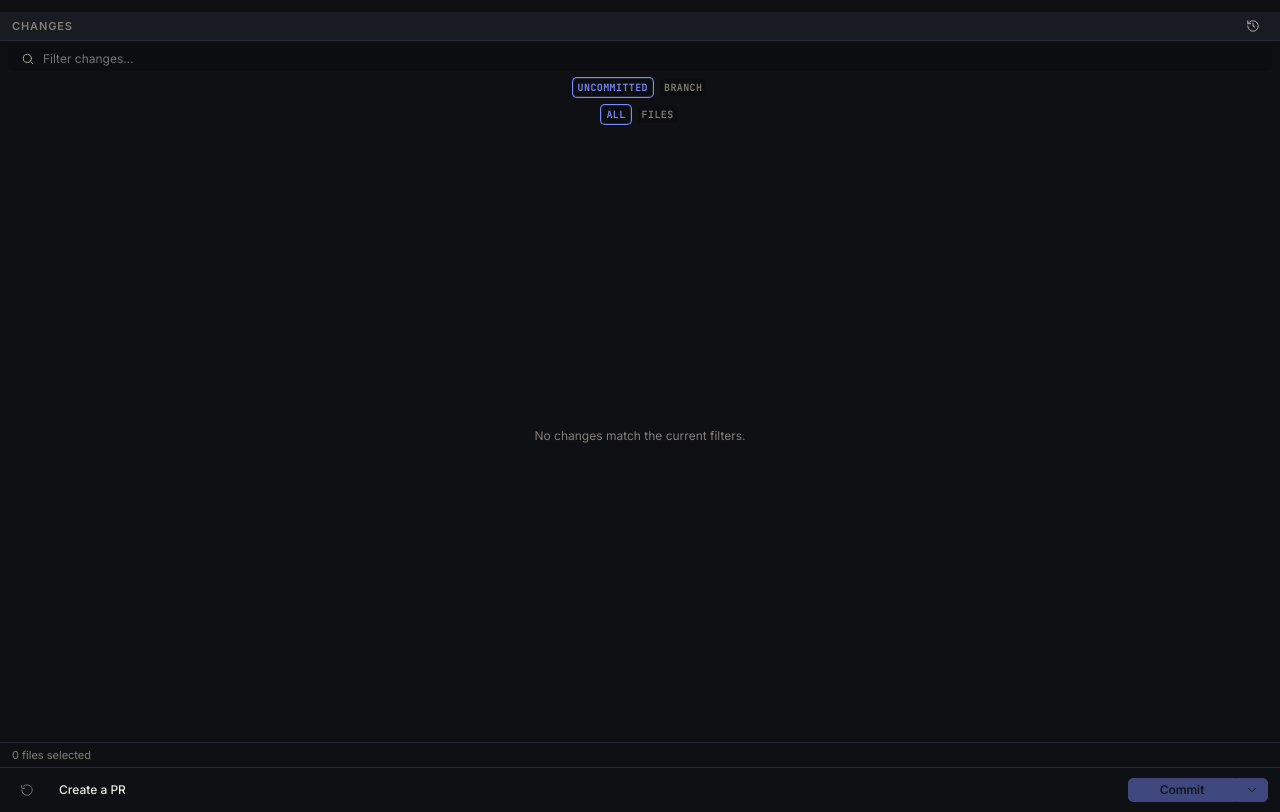
Test case: tree rendering › splits the tree into Revisioned and Unrevisioned, Revisioned first (CHG-FR-09)
Click the radio button labelled "Files".
click(658, 114)  # box 636,104 -> 680,125
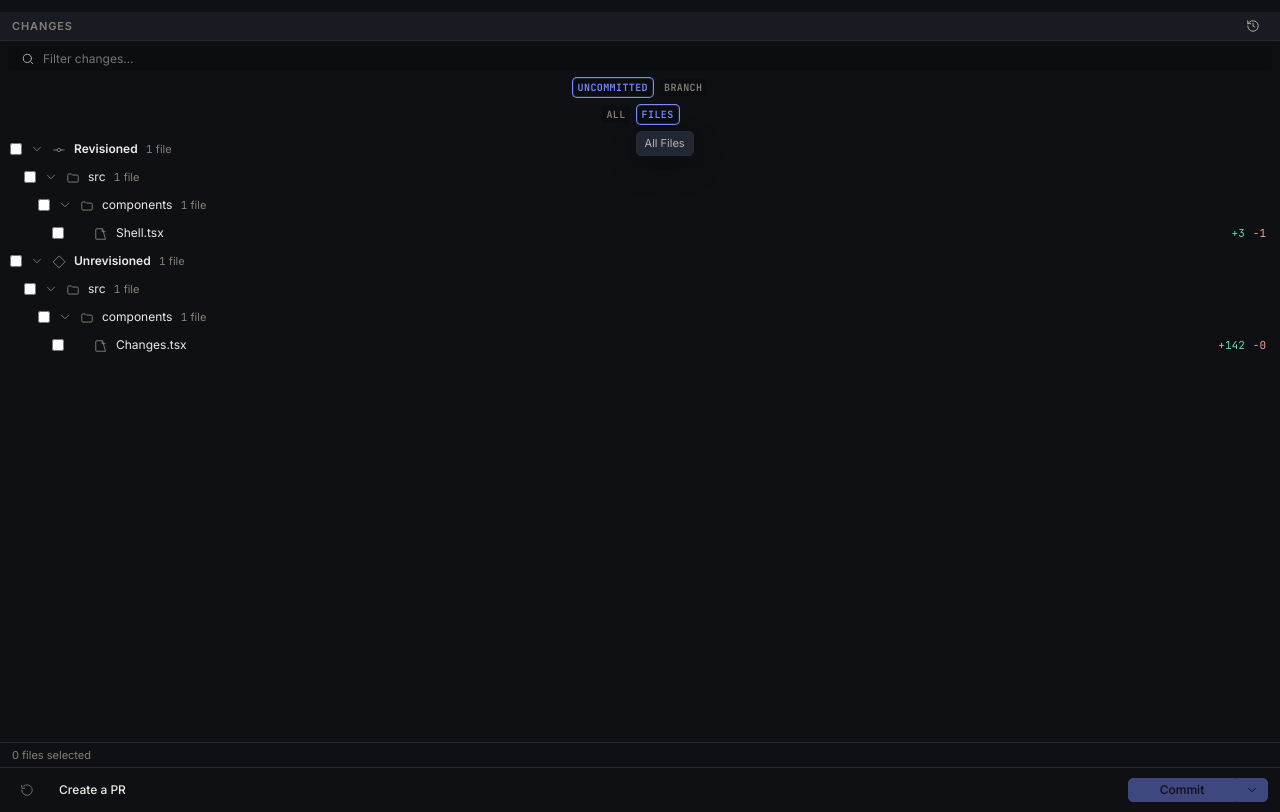
Now the text "Unrevisioned" is shown, box 74,252 -> 151,270
